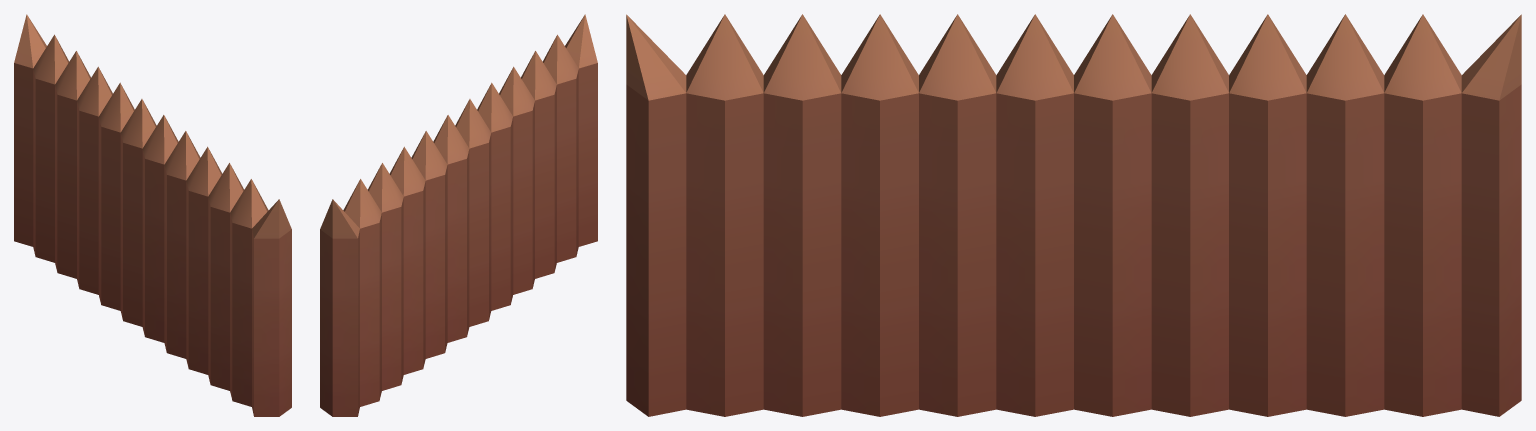
File: fence_wood_straight.glb
The picture shows the model from 3 angles, left to right: view 1: azimuth 30°, elevation 25°; view 2: azimuth 150°, elevation 25°; view 3: azimuth 270°, elevation 25°; orthographic projection. The views are drawn at different scales.
Parts seen in each view (by area): view 1: fence_wood_straight; view 2: fence_wood_straight; view 3: fence_wood_straight.
Part boxes in pixels (x1,y1,x2,y2): fence_wood_straight: [14, 14, 291, 416]; fence_wood_straight: [320, 14, 597, 416]; fence_wood_straight: [626, 14, 1521, 416].
Size of the model in its own units: 0.1 by 0.55 by 1.15.
Materials: 1 (1 with a texture image).
